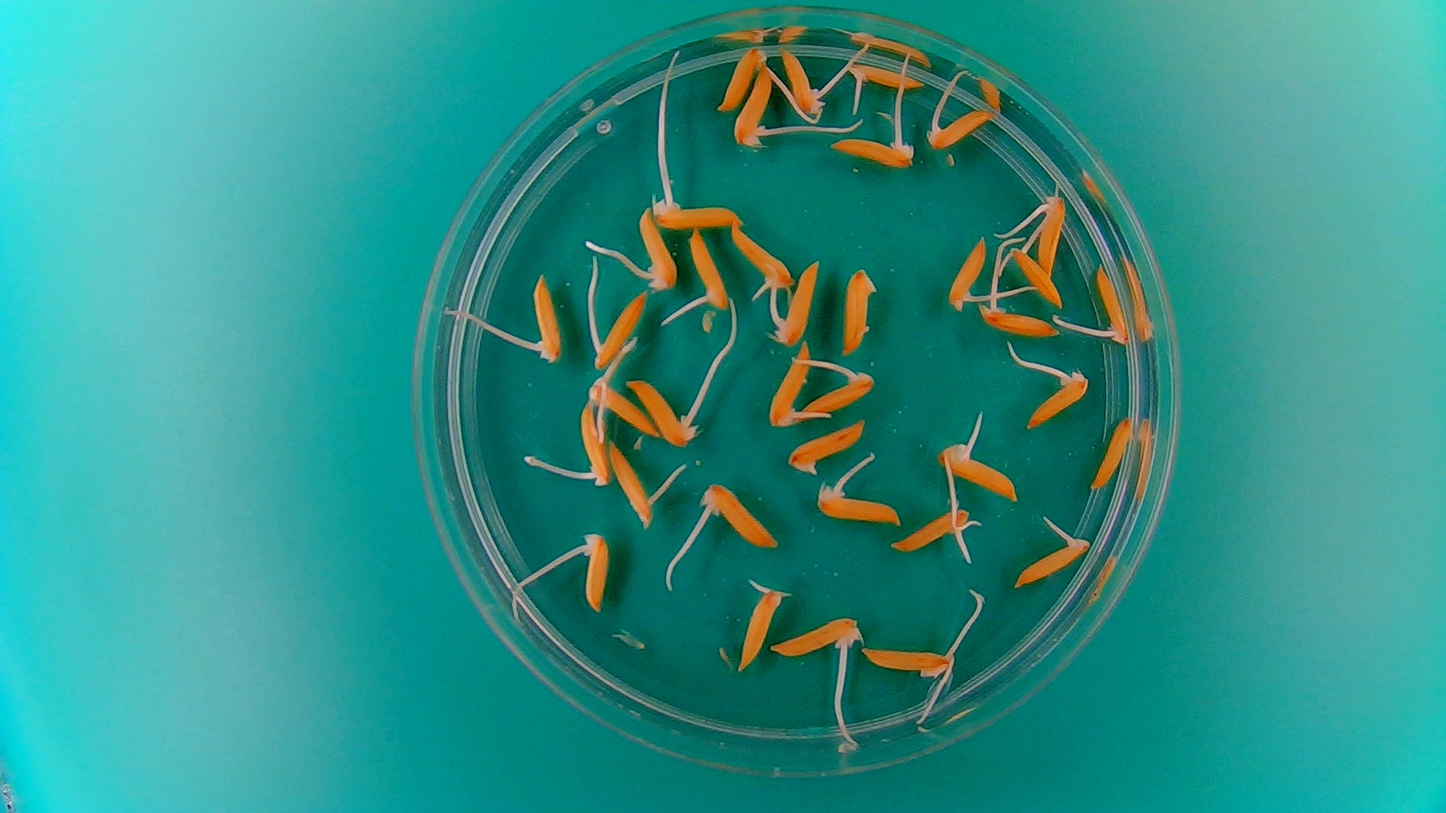no: (786, 417, 869, 474), (837, 263, 877, 357), (1089, 414, 1136, 489)
yes: (859, 626, 981, 683), (705, 477, 782, 551), (588, 288, 649, 370), (736, 577, 788, 673), (767, 257, 823, 346), (1022, 361, 1092, 431), (728, 225, 795, 297), (768, 611, 864, 661), (936, 447, 1020, 502), (587, 374, 660, 436), (628, 382, 694, 449), (519, 272, 565, 367), (888, 507, 972, 557), (685, 227, 733, 312), (795, 370, 878, 418), (1007, 245, 1066, 311), (1011, 537, 1087, 587), (608, 440, 654, 522), (943, 232, 990, 312), (770, 343, 813, 430), (812, 485, 905, 525), (772, 47, 829, 112), (569, 529, 611, 614), (635, 211, 679, 292), (1091, 262, 1132, 347), (975, 300, 1062, 340), (731, 65, 772, 147), (648, 197, 746, 231), (575, 402, 610, 489), (717, 47, 765, 109), (1031, 191, 1066, 275), (924, 108, 991, 150), (827, 139, 914, 169), (844, 58, 923, 90)
